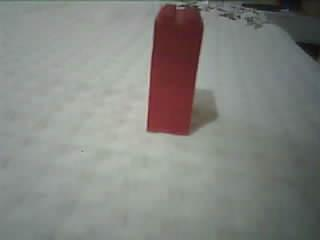lego: (144, 4, 205, 136)
